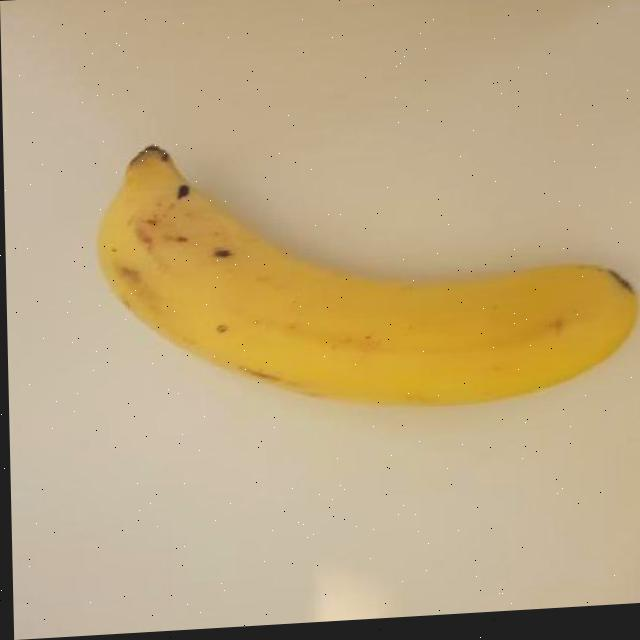banana: (86, 113, 640, 432)
